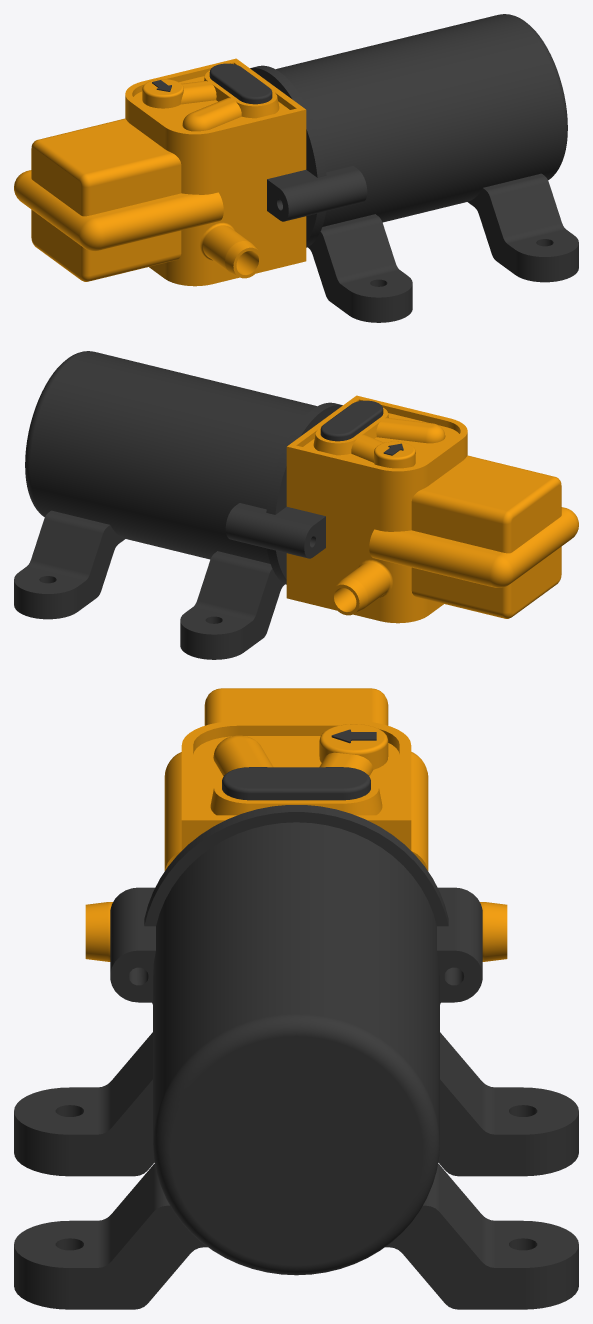
The model's file is Water Pump 1GPM.fbx.
3 views of the same model, one above another, from view 1: azimuth 30°, elevation 25°; view 2: azimuth 150°, elevation 25°; view 3: azimuth 270°, elevation 25° (orthographic). The views are drawn at different scales.
Visible parts, largest first — view 1: MOTOR, PUMP, PRESSURE_CAP, PUMP_CAP1, PRESSURE_BODY, PUMP_CAP2, Button; view 2: MOTOR, PUMP, PRESSURE_CAP, PUMP_CAP1, PRESSURE_BODY, PUMP_CAP2, Button; view 3: MOTOR, PUMP_CAP1, Button, PRESSURE_CAP, PUMP, PRESSURE_BODY.
Boxes of the visible parts, <box> form: MOTOR: <box>250,14,578,322</box>; PUMP: <box>114,114,306,278</box>; PRESSURE_CAP: <box>14,134,126,281</box>; PUMP_CAP1: <box>125,58,306,153</box>; PRESSURE_BODY: <box>62,121,178,275</box>; PUMP_CAP2: <box>149,242,306,286</box>; Button: <box>209,63,272,104</box>; MOTOR: <box>14,351,342,659</box>; PUMP: <box>286,451,478,615</box>; PRESSURE_CAP: <box>466,471,578,618</box>; PUMP_CAP1: <box>286,395,467,490</box>; PRESSURE_BODY: <box>414,458,530,612</box>; PUMP_CAP2: <box>286,579,443,623</box>; Button: <box>320,400,383,441</box>; MOTOR: <box>14,805,578,1309</box>; PUMP_CAP1: <box>181,721,411,850</box>; Button: <box>222,767,370,800</box>; PRESSURE_CAP: <box>164,688,428,793</box>; PUMP: <box>85,815,507,961</box>; PRESSURE_BODY: <box>164,708,428,834</box>.
Size of the model in its own units: 15.9 by 6.15 by 9.85.
